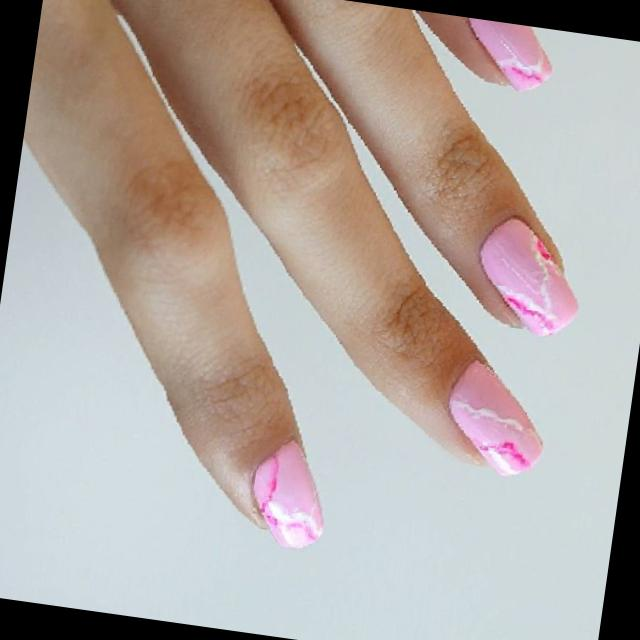Nail: (480, 219, 577, 335), (448, 361, 541, 475), (253, 443, 319, 548), (468, 19, 551, 88)
